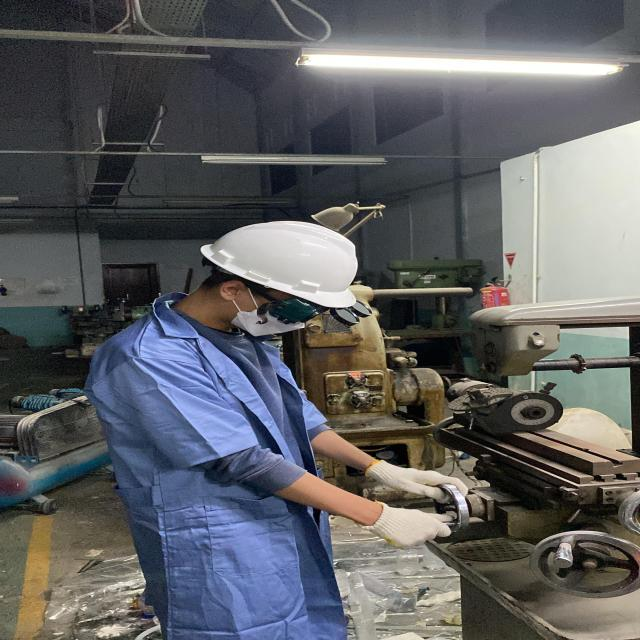glasses: (252, 294, 375, 328)
